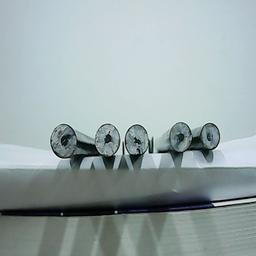pen: (49, 122, 77, 159), (93, 122, 121, 159), (124, 123, 150, 157), (167, 119, 192, 152), (200, 120, 220, 149)
